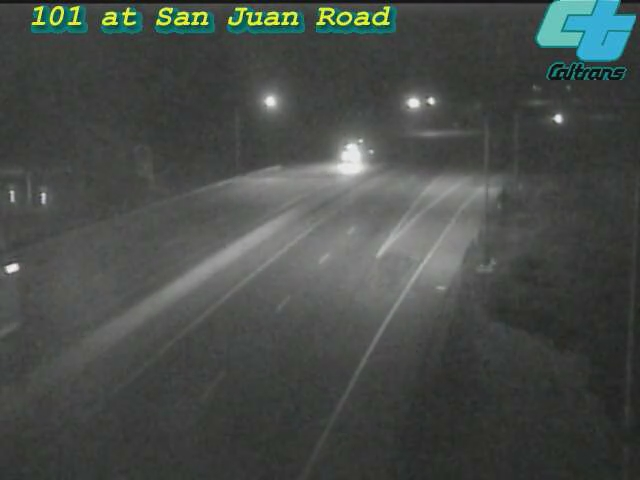vehicle: (312, 115, 392, 195), (1, 263, 47, 343), (532, 93, 582, 143)
